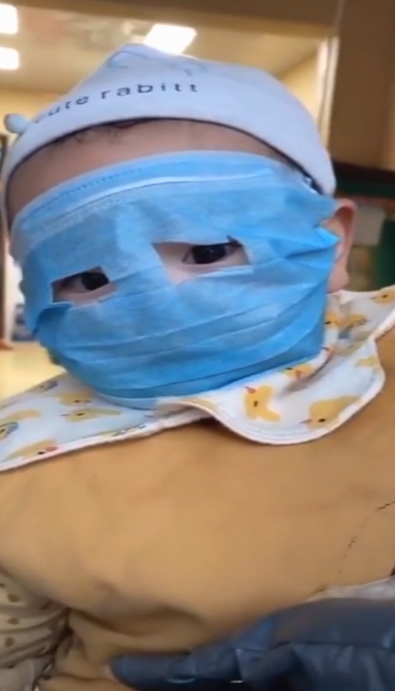mask_weared_incorrect: (0, 47, 360, 402)
